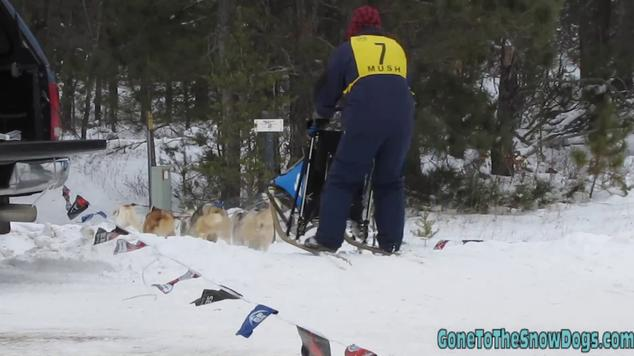down: (148, 264, 202, 293), (235, 301, 281, 335), (100, 216, 141, 252), (189, 284, 241, 307)
sit: (67, 190, 91, 217)
stay: (67, 190, 91, 217)
